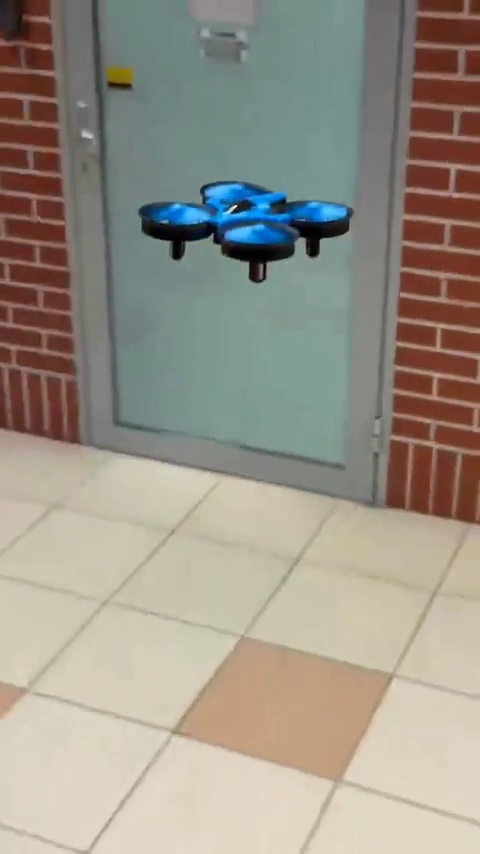drone: (137, 178, 354, 273)
